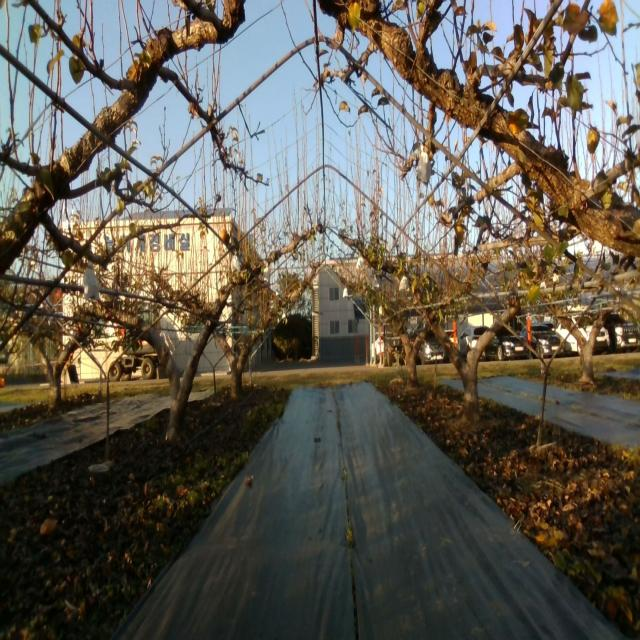pearbags: (82, 261, 100, 303), (417, 145, 432, 188), (231, 251, 241, 273)
